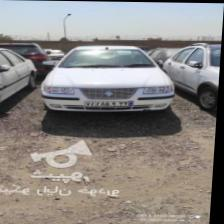plate: (86, 100, 136, 106)
